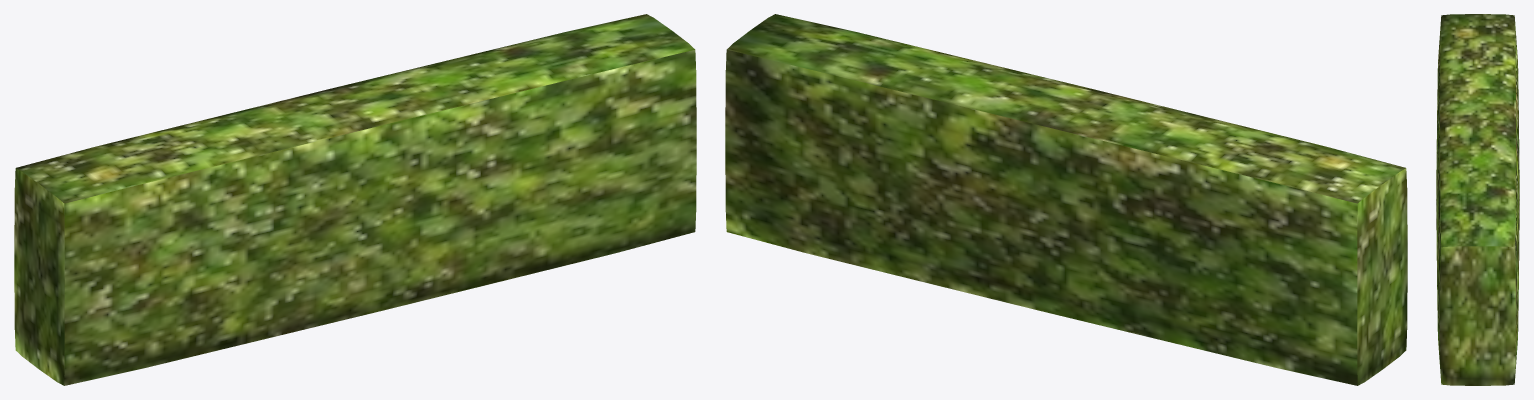
File: hedge.obj
3 views of the same model, side by side, from view 1: azimuth 30°, elevation 25°; view 2: azimuth 150°, elevation 25°; view 3: azimuth 270°, elevation 25° (orthographic). The views are drawn at different scales.
Parts seen in each view (by area): view 1: little_hegde_in_Cube.002; view 2: little_hegde_in_Cube.002; view 3: little_hegde_in_Cube.002.
Part boxes in pixels (x1,y1,x2,y2): little_hegde_in_Cube.002: (14,14,696,385); little_hegde_in_Cube.002: (725,14,1407,385); little_hegde_in_Cube.002: (1436,14,1519,385).
Size of the model in its own units: 4.63 by 1.36 by 0.7023.
Materials: 1 (1 with a texture image).
